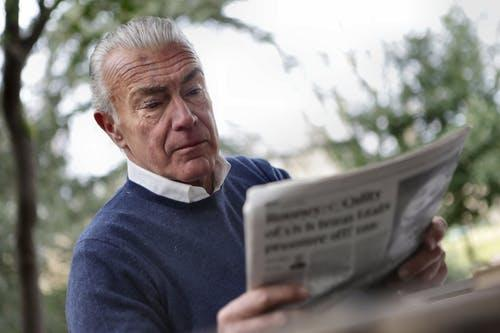Wrinkles: (126, 57, 198, 80), (121, 51, 184, 75), (134, 61, 200, 82)
